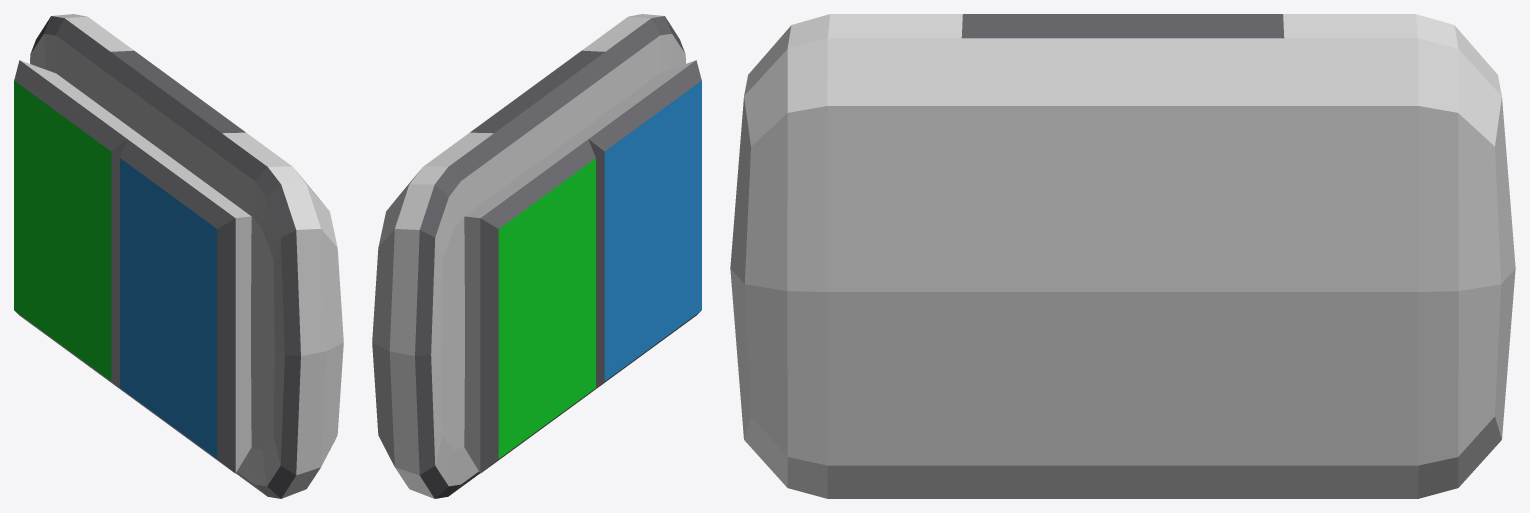
The model's file is Temperature Panel.fbx.
3 renders of one model, left to right at view 1: azimuth 30°, elevation 25°; view 2: azimuth 150°, elevation 25°; view 3: azimuth 270°, elevation 25°, orthographic. The views are drawn at different scales.
Parts seen in each view (by area): view 1: Temperature Panel; view 2: Temperature Panel; view 3: Temperature Panel.
Part boxes in pixels (<box>): Temperature Panel: <box>14,14,343,498</box>; Temperature Panel: <box>372,14,701,498</box>; Temperature Panel: <box>730,14,1515,498</box>.
Bounding box in the file's own units: 17.74 × 51.75 × 77.5.
